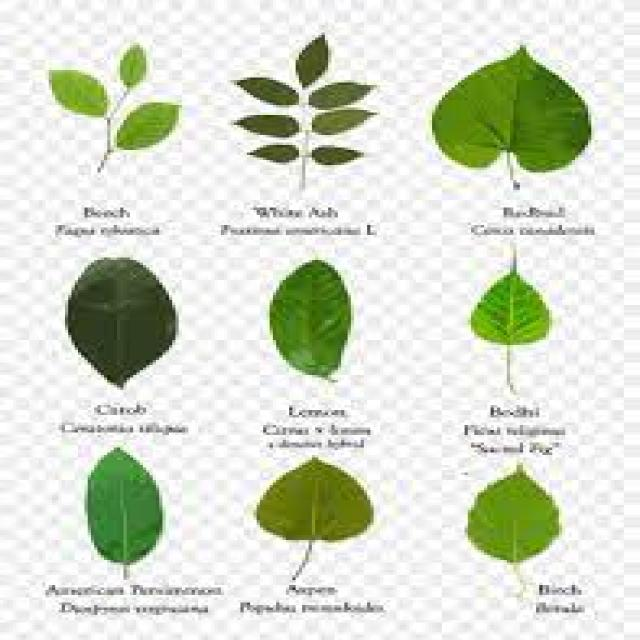leaves: (432, 48, 588, 171), (257, 458, 374, 582), (67, 258, 177, 387), (270, 260, 351, 377), (466, 465, 560, 562), (86, 448, 162, 564), (471, 270, 551, 344), (115, 102, 178, 149), (53, 70, 104, 116), (296, 35, 328, 87), (310, 82, 374, 108), (236, 115, 299, 137), (237, 82, 299, 104), (312, 113, 375, 134), (119, 45, 146, 88), (249, 145, 293, 162), (312, 151, 362, 164)
